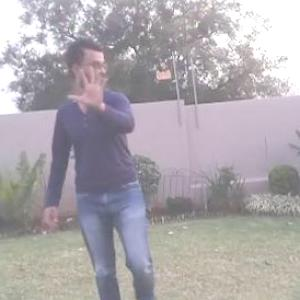follow_hand: (66, 64, 110, 109)
